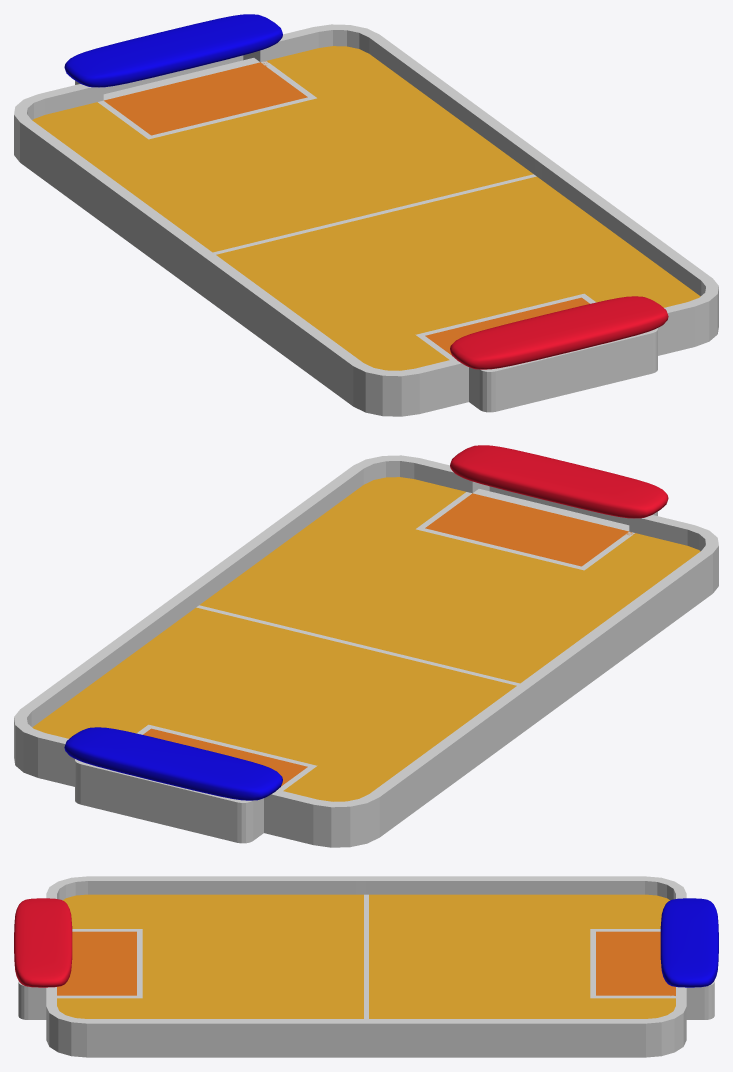
The model's file is yozodai.fbx.
3 views of the same model, one above another, from view 1: azimuth 30°, elevation 25°; view 2: azimuth 150°, elevation 25°; view 3: azimuth 270°, elevation 25° (orthographic). The views are drawn at different scales.
Visible parts, largest first — view 1: MainTable.001, PlayerSideGoal.001, EnemySideGoal.001; view 2: MainTable.001, PlayerSideGoal.001, EnemySideGoal.001; view 3: MainTable.001, PlayerSideGoal.001, EnemySideGoal.001.
Part boxes in pixels (left/top/right/bottom): MainTable.001: left=14, top=24, right=718, bottom=416; PlayerSideGoal.001: left=450, top=296, right=668, bottom=369; EnemySideGoal.001: left=64, top=14, right=282, bottom=87; MainTable.001: left=14, top=455, right=718, bottom=847; PlayerSideGoal.001: left=450, top=445, right=668, bottom=518; EnemySideGoal.001: left=64, top=727, right=282, bottom=800; MainTable.001: left=18, top=876, right=714, bottom=1057; PlayerSideGoal.001: left=14, top=898, right=72, bottom=987; EnemySideGoal.001: left=660, top=898, right=718, bottom=987.
Size of the model in its own units: 3.1 by 0.4716 by 6.28.
